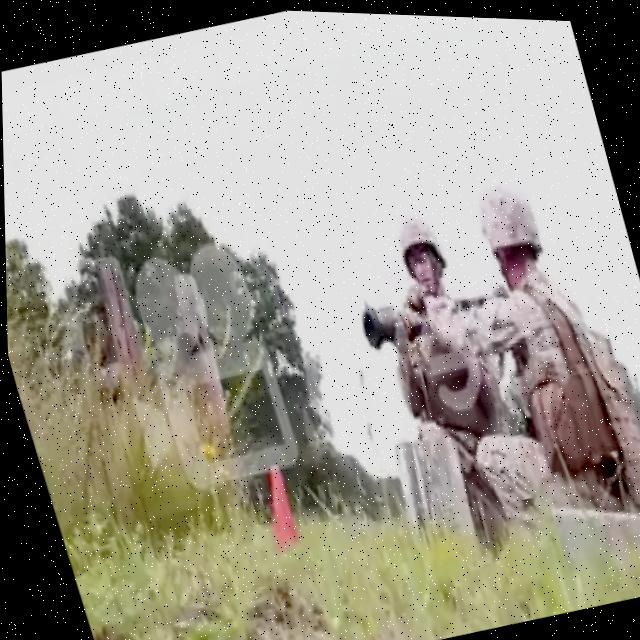rocket: (352, 293, 422, 349)
